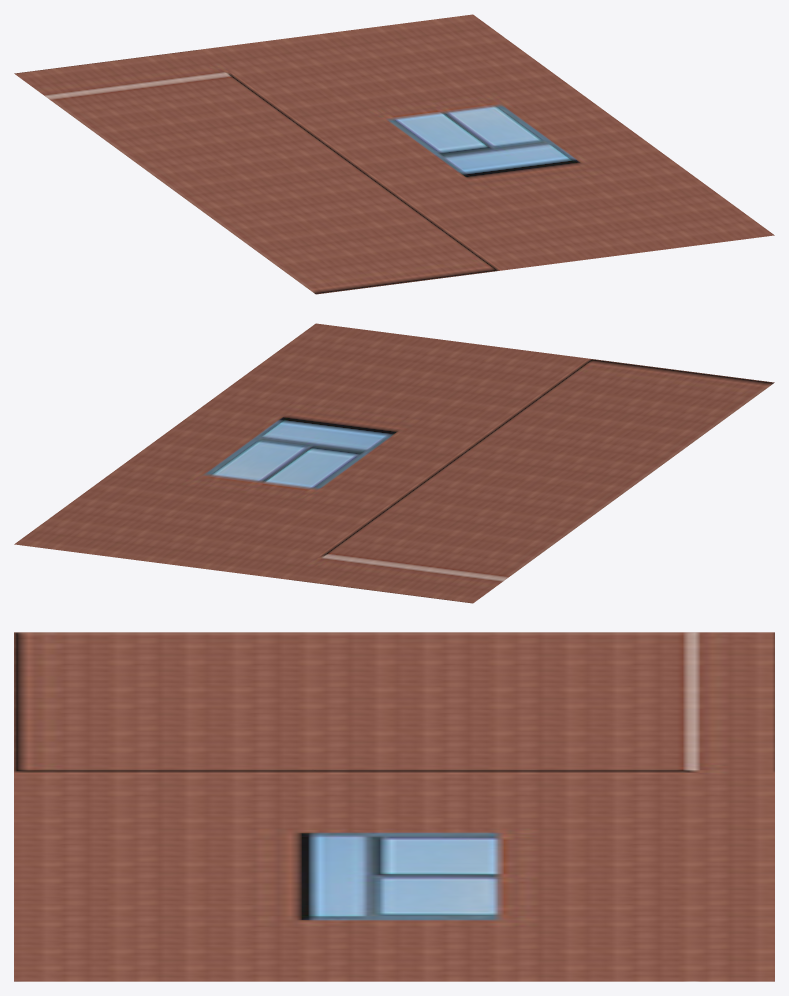
File: data28.glb
3 views of the same model, one above another, from view 1: azimuth 30°, elevation 25°; view 2: azimuth 150°, elevation 25°; view 3: azimuth 270°, elevation 25° (orthographic). The views are drawn at different scales.
Visible parts, largest first — view 1: data28; view 2: data28; view 3: data28.
Boxes of the visible parts, x1,y1,x2,y2 form: data28: [14, 14, 774, 294]; data28: [14, 323, 774, 603]; data28: [14, 632, 774, 981].
Bounding box in the file's own units: 5.27 × 0.5804 × 6.
Materials: 1 (1 with a texture image).
